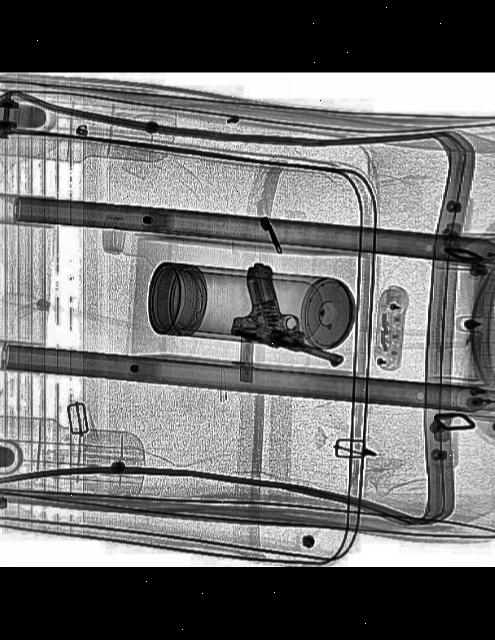Gun: (219, 260, 372, 370)
